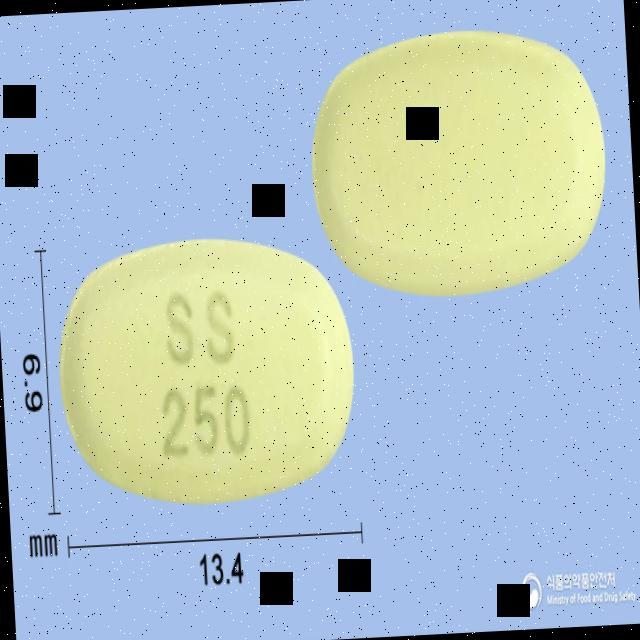Samsung Clarithromycin Tab: (52, 228, 362, 508)
